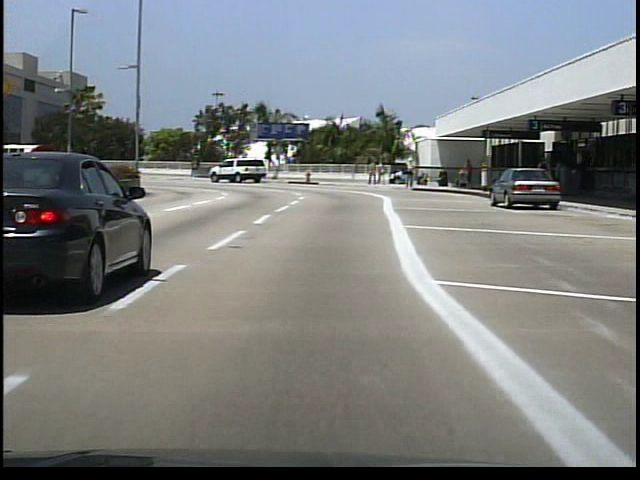person: (534, 154, 554, 197), (463, 159, 476, 189), (406, 155, 417, 190), (370, 160, 379, 187), (379, 159, 387, 186)
